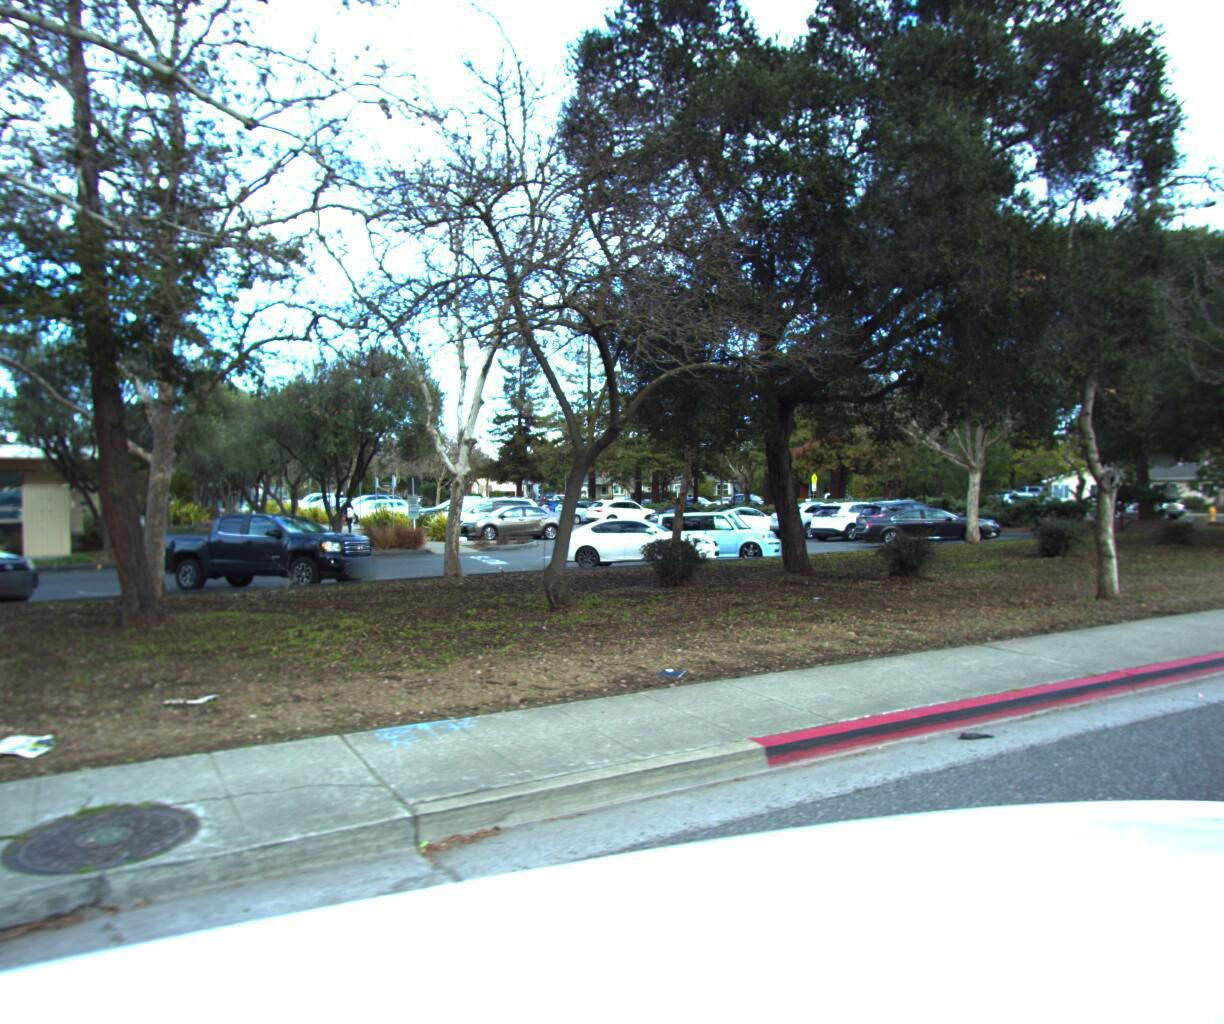car: (1104, 487, 1198, 514)
